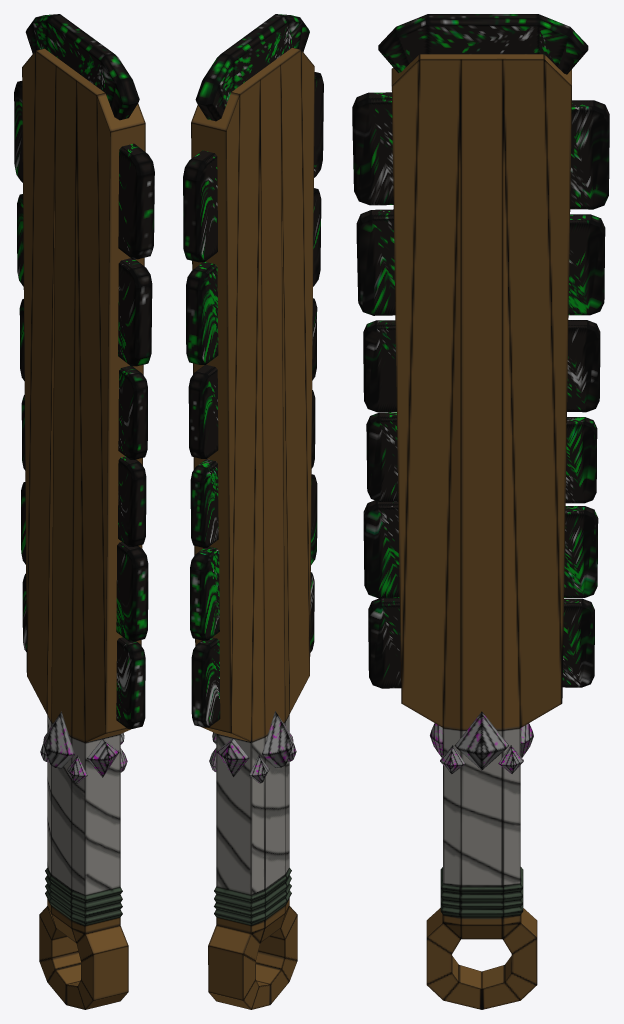
File: macuahuitl.obj
3 renders of one model, left to right at view 1: azimuth 30°, elevation 25°; view 2: azimuth 150°, elevation 25°; view 3: azimuth 270°, elevation 25°, orthographic.
Visible parts, largest first — view 1: Base; view 2: Base; view 3: Base.
Boxes of the visible parts, x1,y1,x2,y2 form: Base: [14, 14, 154, 1009]; Base: [183, 14, 323, 1009]; Base: [352, 14, 609, 1009].
Size of the model in its own units: 2.36 by 28.01 by 6.64.
Materials: 1 (1 with a texture image).
